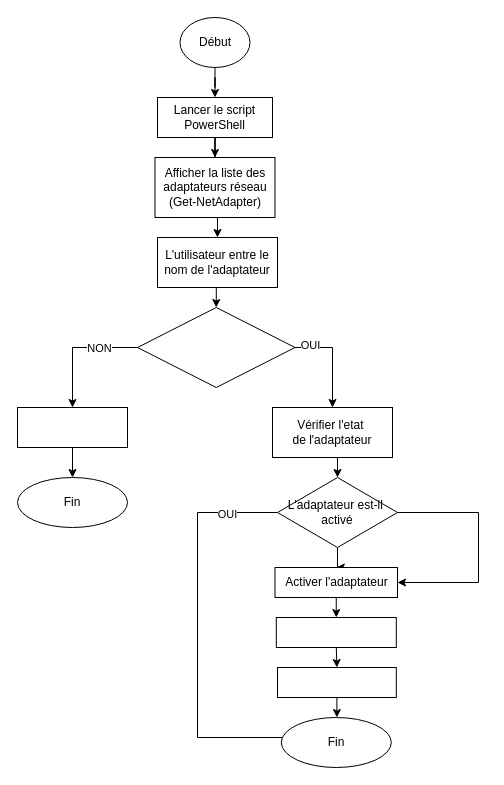
This 504x785 diagram has some shape labels left out. The box of each missing label's shape, as (x1, y1, x2, y2) in pixels:
Afficher un message d'erreur: (16, 406, 128, 448)
Afficher un message de confirmation: (276, 666, 396, 698)
L'adaptateur existe-t-il ?: (136, 306, 295, 388)
Vérifier le nouvel état: (275, 616, 396, 648)
